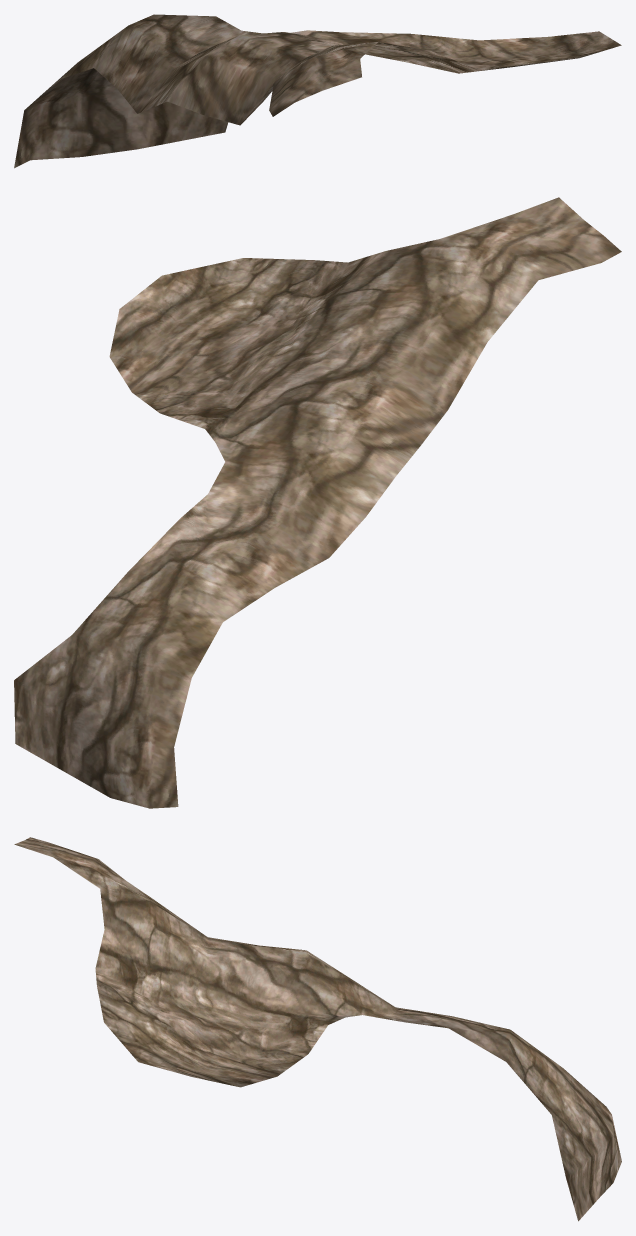
File: EKH_THRONE_PS_TH_THRONE_DAM_01.fbx
3 renders of one model, top to bottom at view 1: azimuth 30°, elevation 25°; view 2: azimuth 150°, elevation 25°; view 3: azimuth 270°, elevation 25°, orthographic. The views are drawn at different scales.
Visible parts, largest first — view 1: EKH_THRONE_PS_TH_THRONE_DAM_01; view 2: EKH_THRONE_PS_TH_THRONE_DAM_01; view 3: EKH_THRONE_PS_TH_THRONE_DAM_01.
Boxes of the visible parts, <box> form: EKH_THRONE_PS_TH_THRONE_DAM_01: <box>14,14,621,168</box>; EKH_THRONE_PS_TH_THRONE_DAM_01: <box>14,197,621,808</box>; EKH_THRONE_PS_TH_THRONE_DAM_01: <box>14,837,621,1221</box>.
Bounding box in the file's own units: 67835 × 57375 × 104791.
Materials: 1 (1 with a texture image).
